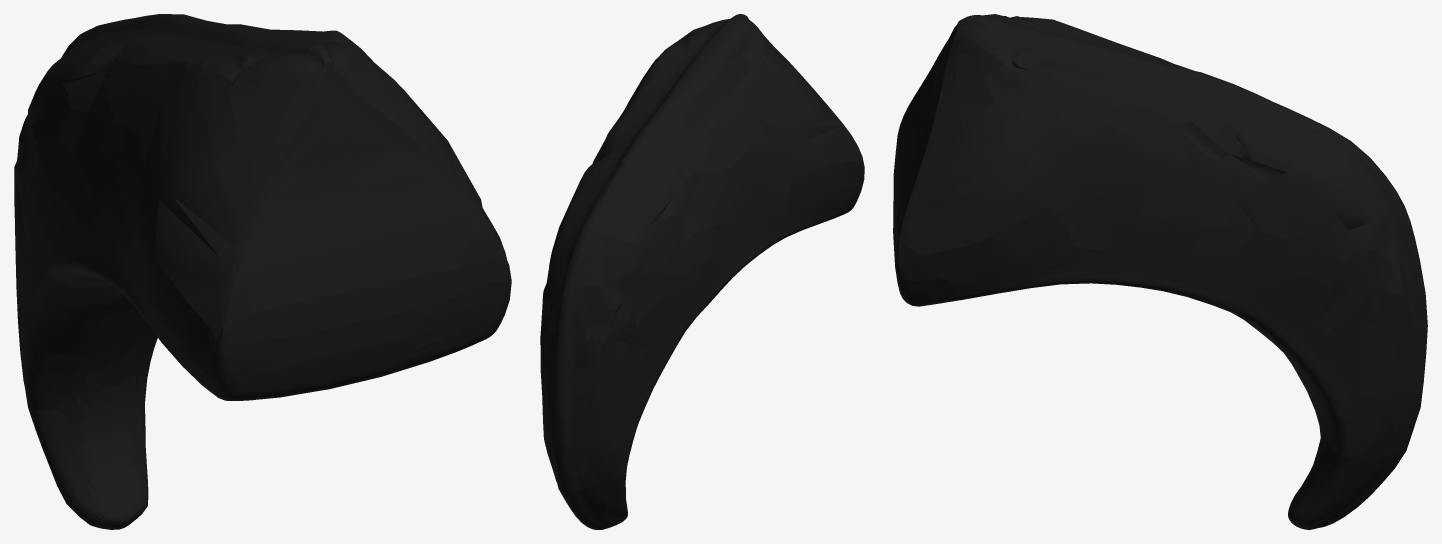
The model's file is Mowhawk-Stealth.glb.
3 renders of one model, left to right at view 1: azimuth 30°, elevation 25°; view 2: azimuth 150°, elevation 25°; view 3: azimuth 270°, elevation 25°, orthographic. The views are drawn at different scales.
Visible parts, largest first — view 1: Mowhawk-Stealth; view 2: Mowhawk-Stealth; view 3: Mowhawk-Stealth.
Part boxes in pixels (x1=…): Mowhawk-Stealth: x1=14, y1=14, x2=511, y2=529; Mowhawk-Stealth: x1=540, y1=14, x2=864, y2=529; Mowhawk-Stealth: x1=893, y1=14, x2=1427, y2=529.
Bounding box in the file's own units: 0.2189 × 0.42 × 0.399.
1 material, 1 textured.
